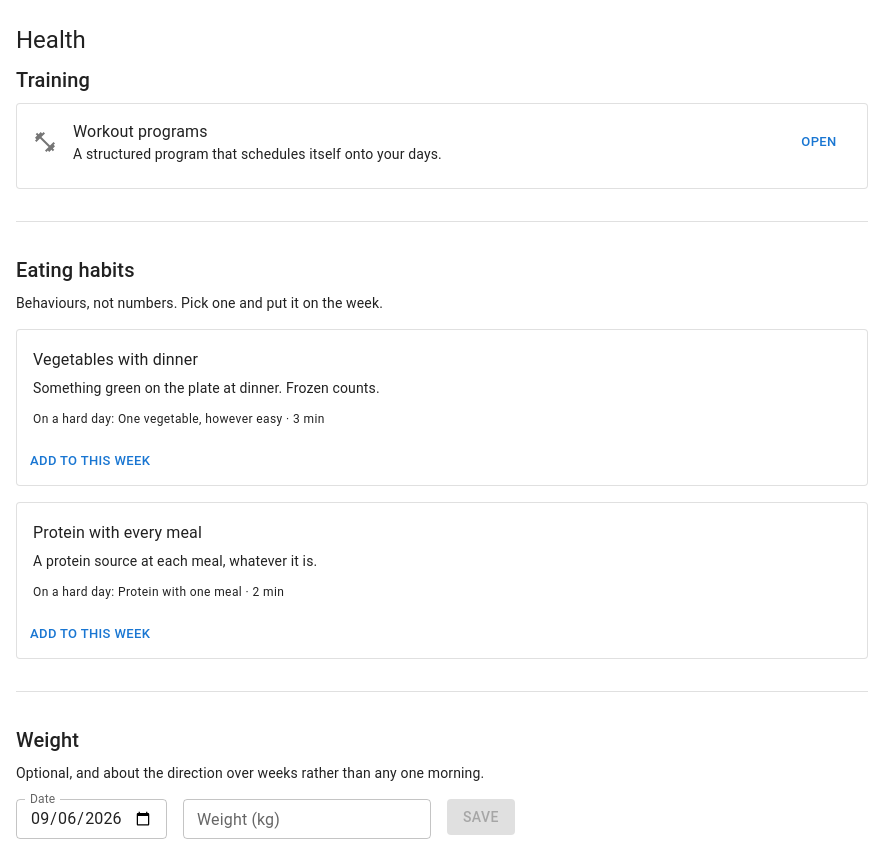
HealthPage › refuses a weight that is not a weight, before asking the server
Check: the heading "Weight" is shown, box [16,728,79,752]
Step 1. Type "5" into the field named "Weight in kilograms" → (307, 819), box [183,799,431,839]
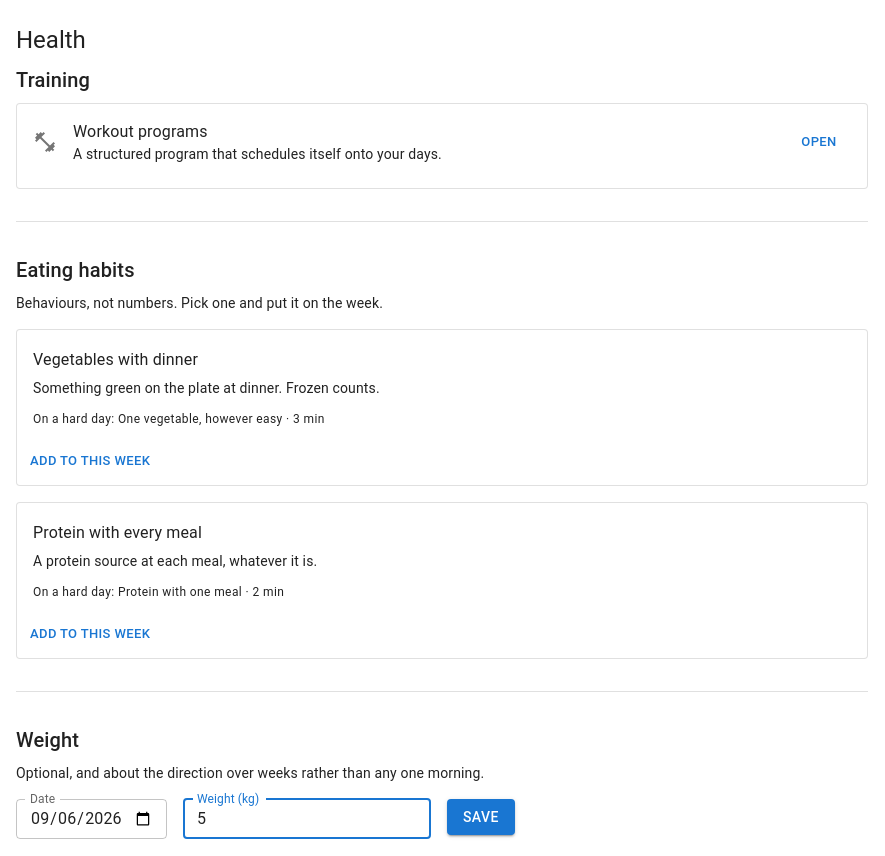
Step 2. Click the button "Save" → (481, 817), box [447,799,515,836]
(page scrolled)
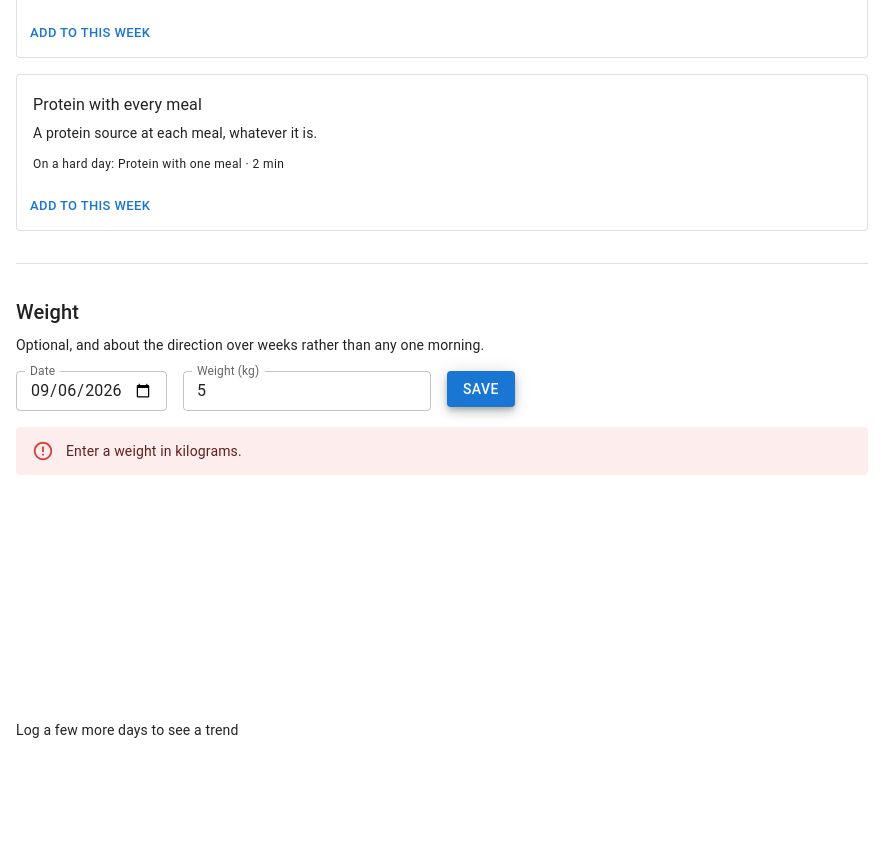
Check: the message reads "Enter a weight in kilograms.", box [66,443,242,459]
